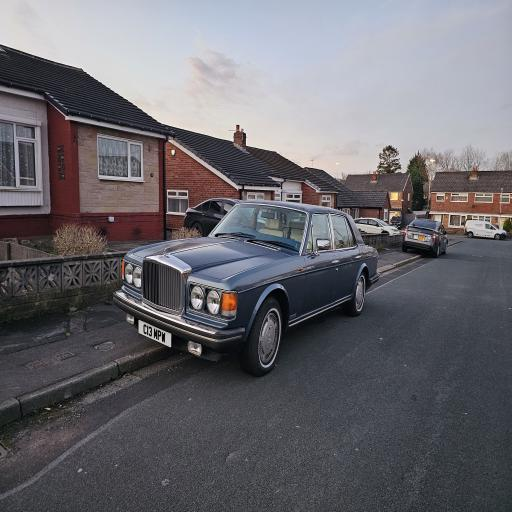numberplates: (139, 321, 171, 346), (418, 235, 424, 240), (413, 235, 418, 239)
